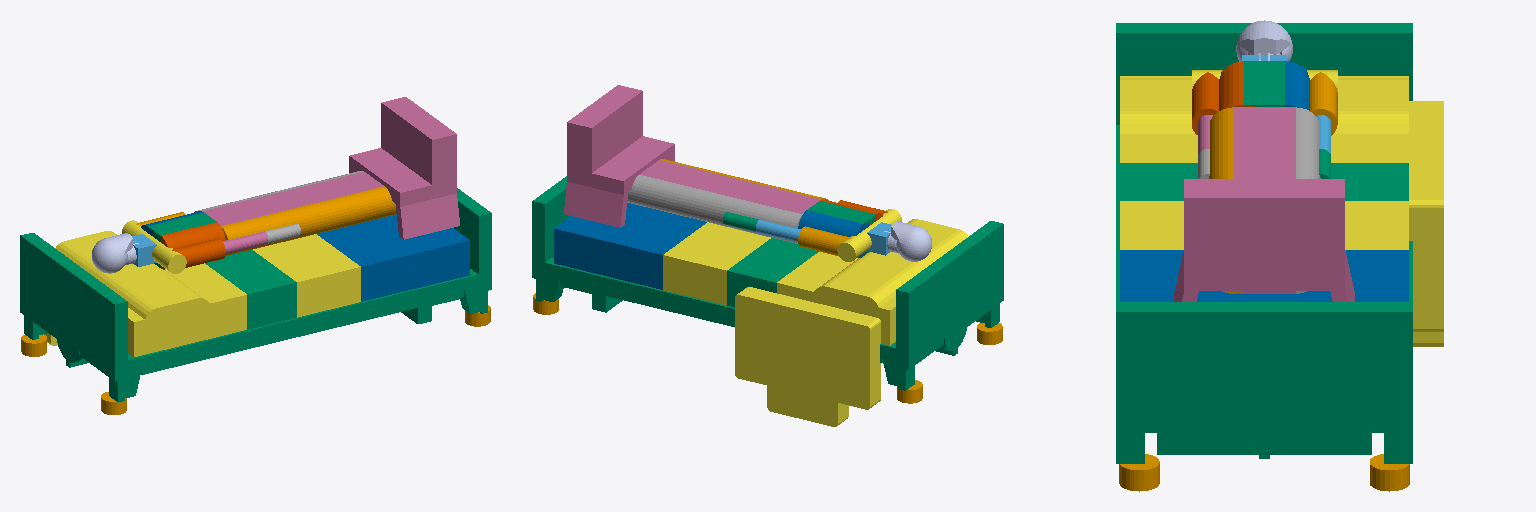
--- What the picture shows (computed from the rendered views, not written in the file) ---
The picture shows the robot from 3 angles, left to right: view 1: azimuth 30°, elevation 25°; view 2: azimuth 150°, elevation 25°; view 3: azimuth 270°, elevation 25°; orthographic projection.
Robot: bed_and_environment_cali_parameterized_tray — 43 links, 42 joints (17 revolute, 6 prismatic, 19 fixed); root link autobed/base_link; default pose: every joint at zero.
Links seen in each view (by area): view 1: autobed/bed_frame_link, autobed/head_rest_link, autobed/overbed_tray_link, autobed/leg_rest_lower, autobed/leg_rest_upper, autobed/legs_side_left_link, autobed/pelvis_link, autobed/base_link, autobed/head_link, autobed/torso_side_left_link, autobed/torso_clavicle_link, autobed/upper_arm_right_link (+3 smaller); view 2: autobed/head_rest_link, autobed/bed_frame_link, autobed/overbed_tray_link, autobed/leg_rest_lower, autobed/leg_rest_upper, autobed/legs_side_right_link, autobed/pelvis_link, autobed/base_link, autobed/head_link, autobed/torso_side_right_link, autobed/torso_clavicle_link, autobed/upper_arm_left_link (+3 smaller); view 3: autobed/bed_frame_link, autobed/head_rest_link, autobed/overbed_tray_link, autobed/leg_rest_lower, autobed/leg_rest_upper, autobed/pelvis_link, autobed/base_link, autobed/torso_link, autobed/head_link, autobed/legs_side_left_link, autobed/legs_side_right_link, autobed/upper_arm_left_link (+3 smaller).
Link boxes in pixels (x1,y1,x2,y2): autobed/bed_frame_link: (20,188,491,402); autobed/head_rest_link: (44,231,246,356); autobed/overbed_tray_link: (349,97,459,239); autobed/leg_rest_lower: (317,214,469,301); autobed/leg_rest_upper: (253,234,360,317); autobed/legs_side_left_link: (221,186,396,255); autobed/pelvis_link: (202,172,383,225); autobed/base_link: (21,305,490,414); autobed/head_link: (92,233,132,273); autobed/torso_side_left_link: (161,222,225,269); autobed/torso_clavicle_link: (122,220,186,273); autobed/upper_arm_right_link: (172,238,225,267); autobed/head_rest_link: (735,219,968,426); autobed/bed_frame_link: (532,176,1003,390); autobed/overbed_tray_link: (564,85,674,227); autobed/leg_rest_lower: (554,203,706,289); autobed/leg_rest_upper: (663,222,770,305); autobed/legs_side_right_link: (627,175,802,243); autobed/pelvis_link: (639,160,821,213); autobed/base_link: (533,293,1002,403); autobed/head_link: (891,221,931,261); autobed/torso_side_right_link: (798,210,868,257); autobed/torso_clavicle_link: (837,209,901,261); autobed/upper_arm_left_link: (798,226,850,255); autobed/bed_frame_link: (1116,23,1412,463); autobed/head_rest_link: (1120,76,1443,346); autobed/overbed_tray_link: (1174,179,1354,301); autobed/leg_rest_lower: (1120,250,1408,301); autobed/leg_rest_upper: (1120,201,1408,249); autobed/pelvis_link: (1233,107,1295,293); autobed/base_link: (1119,454,1409,491); autobed/torso_link: (1244,61,1284,106); autobed/head_link: (1236,20,1292,61); autobed/legs_side_left_link: (1209,107,1243,293); autobed/legs_side_right_link: (1296,107,1320,293); autobed/upper_arm_left_link: (1310,72,1337,135).
Size in the robot's own frame: 2.41 by 1.13 by 1.25 metres.
Meshes: 9 distinct files referenced, 8 mesh visuals loaded (8 binary STL); not drawn: 1 (reference not matched to a file when rendering).

The robot description file, URDF, robot "bed_and_environment_cali_parameterized_tray":
<?xml version="1.0" ?>
<!-- =================================================================================== -->
<!-- |    This document was autogenerated by xacro from ./urdf/bed_and_environment_cali_henry_tray/robots/bed_and_environment_cali_2_0m_tray.urdf.xacro | -->
<!-- |    EDITING THIS FILE BY HAND IS NOT RECOMMENDED                                 | -->
<!-- =================================================================================== -->
<robot name="bed_and_environment_cali_parameterized_tray" xmlns:xacro="http://www.ros.org/wiki/xacro">
  <!--<xacro:property name="torso_len" value="0.6" />-->
  <!--<xacro:property name="leg_len" value="1.1" />-->
  <!--<robot-->
  <!--name="bed_and_environment_cali_parameterized_tray">-->
  <link name="autobed/base_link">
    <inertial>
      <origin rpy="0 0 0" xyz="1.1357 5.02524375187963E-16 0.0837923121940762"/>
      <mass value="6.1860172808288"/>
      <inertia ixx="1.21978721906848" ixy="2.44249065417534E-15" ixz="-1.95644145492449E-15" iyy="8.04681346721547" iyz="-8.29396064187448E-16" izz="9.14286094259782"/>
    </inertial>
    <visual>
      <origin rpy="0 0 0" xyz="0 0 0"/>
      <geometry>
        <mesh filename="package://hrl_base_selection/urdf/bed_and_environment_cali_henry_tray/meshes/base_link.STL"/>
      </geometry>
    </visual>
    <collision>
      <origin rpy="0 0 0" xyz="0 0 0"/>
      <geometry>
        <mesh filename="package://hrl_base_selection/urdf/bed_and_environment_cali_henry_tray/meshes/base_link.STL"/>
      </geometry>
    </collision>
  </link>
  <link name="autobed/wall_link">
    <inertial>
      <origin rpy="0 0 0" xyz="1.87797370531369 0.344853002331874 0.50260600946241"/>
      <mass value="3357.24028579199"/>
      <inertia ixx="6116.11427029265" ixy="3215.70073716445" ixz="-7.36787327233699" iyy="7061.83554462804" iyz="404.207480292852" izz="12009.0931540893"/>
    </inertial>
    <visual>
      <origin rpy="0 0 0" xyz="0 0 0"/>
      <geometry>
        <mesh filename="package://hrl_base_selection/urdf/bed_and_environment_cali_henry_tray/meshes/wall_link.STL"/>
      </geometry>
    </visual>
    <collision>
      <origin rpy="0 0 0" xyz="0 0 0"/>
      <geometry>
        <mesh filename="package://hrl_base_selection/urdf/bed_and_environment_cali_henry_tray/meshes/wall_link.STL"/>
      </geometry>
    </collision>
  </link>
  <joint name="autobed/origin_wall_joint" type="fixed">
    <origin rpy="-6.12323399573677E-17 -2.86271466643222E-16 -0.0588984739444681" xyz="-0.121553494210093 -0.00360284373118887 0"/>
    <parent link="autobed/base_link"/>
    <child link="autobed/wall_link"/>
    <axis xyz="0 0 0"/>
  </joint>
  <!--<joint-->
  <!--name="autobed/test_length_joint"-->
  <!--type="fixed">-->
  <!--<origin-->
  <!--xyz="1.1565 0 0"-->
  <!--rpy="0 0 0" />-->
  <!--<parent-->
  <!--link="autobed/base_link" />-->
  <!--<child-->
  <!--link="autobed/test_length_link" />-->
  <!--<axis-->
  <!--xyz="0 0 0" />-->
  <!--</joint>-->
  <!--<link-->
  <!--name="autobed/test_length_link">-->
  <!--<visual>-->
  <!--<origin-->
  <!--xyz="0 0 0"-->
  <!--rpy="0 0 0" />-->
  <!--<geometry>-->
  <!--<box size="4.66 ${0.914*2} 0.1"/>-->
  <!--</geometry>-->
  <!--</visual>-->
  <!--<collision>-->
  <!--<origin-->
  <!--xyz="0 0 0"-->
  <!--rpy="0 0 0" />-->
  <!--<geometry>-->
  <!--<box size="4.66 ${0.914*2} 0.1"/>-->
  <!--</geometry>-->
  <!--</collision>-->
  <!--</link>-->
  <!--<joint-->
  <!--name="autobed/test_spot_joint"-->
  <!--type="fixed">-->
  <!--<origin-->
  <!--xyz="1.1565 0.4552 0"-->
  <!--rpy="0 0 0" />-->
  <!--<parent-->
  <!--link="autobed/base_link" />-->
  <!--<child-->
  <!--link="autobed/test_spot_link" />-->
  <!--<axis-->
  <!--xyz="0 0 0" />-->
  <!--</joint>-->
  <!--<link-->
  <!--name="autobed/test_spot_link">-->
  <!--<visual>-->
  <!--<origin-->
  <!--xyz="0 0 0"-->
  <!--rpy="0 0 0" />-->
  <!--<geometry>-->
  <!--<box size="0.1 0.1 0.1"/>-->
  <!--</geometry>-->
  <!--</visual>-->
  <!--<collision>-->
  <!--<origin-->
  <!--xyz="0 0 0"-->
  <!--rpy="0 0 0" />-->
  <!--<geometry>-->
  <!--<box size="0.1 0.1 0.1"/>-->
  <!--</geometry>-->
  <!--</collision>-->
  <!--</link>-->
  <link name="autobed/bed_frame_link">
    <inertial>
      <origin rpy="0 0 0" xyz="1.21628575112374 -0.00457131635492439 -0.0135493327987712"/>
      <mass value="438.573663325781"/>
      <inertia ixx="42.8905274768398" ixy="0.0492397267886641" ixz="-5.59060599846785" iyy="241.766114116497" iyz="0.273352447936363" izz="273.415411937571"/>
    </inertial>
    <visual>
      <origin rpy="0 0 0" xyz="0 0 0"/>
      <geometry>
        <mesh filename="package://hrl_base_selection/urdf/bed_and_environment_cali_henry_tray/meshes/bed_frame_link.STL"/>
      </geometry>
    </visual>
    <collision>
      <origin rpy="0 0 0" xyz="0 0 0"/>
      <geometry>
        <mesh filename="package://hrl_base_selection/urdf/bed_and_environment_cali_henry_tray/meshes/bed_frame_link.STL"/>
      </geometry>
    </collision>
  </link>
  <joint name="autobed/tele_legs_joint" type="prismatic">
    <origin rpy="0 0 0" xyz="-0.0400000000000005 0 0.320000000000001"/>
    <parent link="autobed/base_link"/>
    <child link="autobed/bed_frame_link"/>
    <axis xyz="0 0 1"/>
    <limit effort="0" lower="-1" upper="1" velocity="0"/>
  </joint>
  <link name="autobed/leg_rest_upper">
    <inertial>
      <origin rpy="0 0 0" xyz="0.200000000000001 0.105 5.39949211906603E-16"/>
      <mass value="83.5800000000001"/>
      <inertia ixx="7.20268062500001" ixy="6.22789394401658E-17" ixz="5.26123900305408E-16" iyy="8.00992412500002" iyz="-4.24421100017485E-15" izz="1.4215565"/>
    </inertial>
    <visual>
      <origin rpy="0 0 0" xyz="0 0 0"/>
      <geometry>
        <mesh filename="package://hrl_base_selection/urdf/bed_and_environment_cali_henry_tray/meshes/leg_rest_upper.STL"/>
      </geometry>
    </visual>
    <collision>
      <origin rpy="0 0 0" xyz="0 0 0"/>
      <geometry>
        <mesh filename="package://hrl_base_selection/urdf/bed_and_environment_cali_henry_tray/meshes/leg_rest_upper.STL"/>
      </geometry>
    </collision>
  </link>
  <joint name="autobed/leg_rest_upper_hinge" type="revolute">
    <origin rpy="1.5707963267949 -1.84377299293392E-16 7.65430446472183E-16" xyz="1.145 0 0"/>
    <parent link="autobed/bed_frame_link"/>
    <child link="autobed/leg_rest_upper"/>
    <axis xyz="0 0 1"/>
    <limit effort="0" lower="-2" upper="2" velocity="0"/>
  </joint>
  <link name="autobed/leg_rest_lower">
    <inertial>
      <origin rpy="0 0 0" xyz="0.34 0.105 -5.47791833032667E-17"/>
      <mass value="142.086"/>
      <inertia ixx="12.2445570625" ixy="-5.16774213504574E-17" ixz="-2.28125300458666E-16" iyy="17.1974382125" iyz="4.5484254092282E-16" izz="5.99721325"/>
    </inertial>
    <visual>
      <origin rpy="0 0 0" xyz="0 0 0"/>
      <geometry>
        <mesh filename="package://hrl_base_selection/urdf/bed_and_environment_cali_henry_tray/meshes/leg_rest_lower.STL"/>
      </geometry>
    </visual>
    <collision>
      <origin rpy="0 0 0" xyz="0 0 0"/>
      <geometry>
        <mesh filename="package://hrl_base_selection/urdf/bed_and_environment_cali_henry_tray/meshes/leg_rest_lower.STL"/>
      </geometry>
    </collision>
  </link>
  <joint name="autobed/leg_rest_lower_hinge" type="revolute">
    <origin rpy="8.46545056276682E-16 -2.4743657509036E-16 -1.8315782125782E-16" xyz="0.400000000000001 0 0"/>
    <parent link="autobed/leg_rest_upper"/>
    <child link="autobed/leg_rest_lower"/>
    <axis xyz="0 0 -1"/>
    <limit effort="0" lower="-2" upper="2" velocity="0"/>
  </joint>
  <joint name="autobed/leg_rest_lower_overbed_tray_y_joint" type="prismatic">
    <origin rpy="-1.5707963267949 -7.65430446472183E-16 -1.84377299293393E-16" xyz="1.1264 0.209999999999999 0.0"/>
    <parent link="autobed/leg_rest_upper"/>
    <child link="autobed/overbed_tray_y_link"/>
    <axis xyz="0 1 0"/>
    <limit effort="0" lower="-2" upper="2" velocity="0"/>
  </joint>
  <link name="autobed/overbed_tray_y_link">
  </link>
  <joint name="autobed/leg_rest_lower_overbed_tray_x_joint" type="prismatic">
    <origin rpy="0 0 0" xyz="0 0 0"/>
    <parent link="autobed/overbed_tray_y_link"/>
    <child link="autobed/overbed_tray_link"/>
    <axis xyz="1 0 0"/>
    <limit effort="0" lower="-2" upper="2" velocity="0"/>
  </joint>
  <link name="autobed/overbed_tray_link">
    <inertial>
      <origin rpy="0 0 0" xyz="-0.126831334555388 -2.39391839684799E-16 0.292487182922541"/>
      <mass value="45.8804418306016"/>
      <inertia ixx="2.25610644406934" ixy="5.89980014167489E-16" ixz="0.245785758241238" iyy="1.17395227790145" iyz="9.18641561642936E-16" izz="1.88004614377697"/>
    </inertial>
    <visual>
      <origin rpy="0 0 0" xyz="0 0 0"/>
      <geometry>
        <mesh filename="package://hrl_base_selection/urdf/bed_and_environment_cali_henry_tray/meshes/overbed_tray_link.STL"/>
      </geometry>
    </visual>
    <collision>
      <origin rpy="0 0 0" xyz="0 0 0"/>
      <geometry>
        <mesh filename="package://hrl_base_selection/urdf/bed_and_environment_cali_henry_tray/meshes/overbed_tray_link.STL"/>
      </geometry>
    </collision>
  </link>
  <joint name="autobed/tray_screen_bottom_left_joint" type="fixed">
    <origin rpy="0 0 0" xyz="-0.15408 0.27686 0.26419"/>
    <parent link="autobed/overbed_tray_link"/>
    <child link="autobed/screen_bottom_left_link"/>
  </joint>
  <link name="autobed/screen_bottom_left_link">
  </link>
  <joint name="autobed/tray_screen_bottom_right_joint" type="fixed">
    <origin rpy="0 0 0" xyz="-0.15408 -0.27686 0.26419"/>
    <parent link="autobed/overbed_tray_link"/>
    <child link="autobed/screen_bottom_right_link"/>
  </joint>
  <link name="autobed/screen_bottom_right_link">
  </link>
  <joint name="autobed/tray_screen_top_left_joint" type="fixed">
    <origin rpy="0 0 0" xyz="-0.15408 0.27686 0.53419"/>
    <parent link="autobed/overbed_tray_link"/>
    <child link="autobed/screen_top_left_link"/>
  </joint>
  <link name="autobed/screen_top_left_link">
  </link>
  <joint name="autobed/tray_screen_top_right_joint" type="fixed">
    <origin rpy="0 0 0" xyz="-0.15408 -0.27686 0.53419"/>
    <parent link="autobed/overbed_tray_link"/>
    <child link="autobed/screen_top_right_link"/>
  </joint>
  <link name="autobed/screen_top_right_link">
  </link>
  <link name="autobed/head_rest_link">
    <inertial>
      <origin rpy="0 0 0" xyz="0.329573377413269 -0.160120828020686 0.144918621186554"/>
      <mass value="224.783329311116"/>
      <inertia ixx="32.8876282309991" ixy="1.69548410687658" ixz="-3.19639748968515" iyy="37.6526299034377" iyz="-6.40258778692133" izz="16.0712822442492"/>
    </inertial>
    <visual>
      <origin rpy="0 0 0" xyz="0 0 0"/>
      <geometry>
        <mesh filename="package://hrl_base_selection/urdf/bed_and_environment_cali_henry_tray/meshes/head_rest_link.STL"/>
      </geometry>
    </visual>
    <collision>
      <origin rpy="0 0 0" xyz="0 0 0"/>
      <geometry>
        <mesh filename="package://hrl_base_selection/urdf/bed_and_environment_cali_henry_tray/meshes/head_rest_link.STL"/>
      </geometry>
    </collision>
  </link>
  <joint name="autobed/head_rest_hinge" type="revolute">
    <origin rpy="1.5708 0 -3.1416" xyz="0.835 0 0.21"/>
    <parent link="autobed/bed_frame_link"/>
    <child link="autobed/head_rest_link"/>
    <axis xyz="0 0 1"/>
    <limit effort="0" lower="-2" upper="2" velocity="0"/>
  </joint>
  <link name="autobed/neck_rotated_to_worldframe_link">
  </link>
  <joint name="autobed/headrest_bed_to_worldframe_joint" type="revolute">
    <origin rpy="0. 0. 0." xyz="0.41 0.15 0"/>
    <!--<origin-->
    <!--xyz="0.40949 0.05 0"-->
    <!--rpy="0. 0. 0." />-->
    <parent link="autobed/head_rest_link"/>
    <child link="autobed/neck_rotated_to_worldframe_link"/>
    <axis xyz="0 0 1"/>
    <limit effort="0" lower="-2" upper="2" velocity="0"/>
  </joint>
  <link name="autobed/neck_updown_worldframe_translation_link">
  </link>
  <joint name="autobed/bed_neck_worldframe_updown_joint" type="prismatic">
    <origin rpy="0.0 0.0 0.0" xyz="0.0 0.0 0"/>
    <parent link="autobed/neck_rotated_to_worldframe_link"/>
    <child link="autobed/neck_updown_worldframe_translation_link"/>
    <axis xyz="-1 0 0"/>
    <limit effort="0" lower="-2" upper="2" velocity="0"/>
  </joint>
  <link name="autobed/neck_rotated_to_bedframe_link">
  </link>
  <joint name="autobed/bed_neck_to_bedframe_joint" type="revolute">
    <origin rpy="0. 0. 0." xyz="0.0 0.0 0"/>
    <parent link="autobed/neck_updown_worldframe_translation_link"/>
    <child link="autobed/neck_rotated_to_bedframe_link"/>
    <axis xyz="0 0 1"/>
    <limit effort="0" lower="-2" upper="2" velocity="0"/>
  </joint>
  <link name="autobed/neck_updown_bedframe_translation_link">
  </link>
  <joint name="autobed/bed_neck_base_updown_bedframe_joint" type="prismatic">
    <origin rpy="0. 0. 0." xyz="0.0 0.0 0"/>
    <parent link="autobed/neck_rotated_to_bedframe_link"/>
    <child link="autobed/neck_updown_bedframe_translation_link"/>
    <axis xyz="-1 0 0"/>
    <limit effort="0" lower="-2" upper="2" velocity="0"/>
  </joint>
  <link name="autobed/neck_base_link">
  </link>
  <joint name="autobed/bed_neck_base_leftright_joint" type="prismatic">
    <origin rpy="0 3.14159 0" xyz="0 0 0"/>
    <parent link="autobed/neck_updown_bedframe_translation_link"/>
    <child link="autobed/neck_base_link"/>
    <axis xyz="0 0 -1"/>
    <limit effort="0" lower="-2" upper="2" velocity="0"/>
  </joint>
  <link name="autobed/neck_twist_link">
  </link>
  <joint name="autobed/neck_twist_joint" type="revolute">
    <origin rpy="0. 0. 0." xyz="0.0 0.0 0"/>
    <parent link="autobed/neck_base_link"/>
    <child link="autobed/neck_twist_link"/>
    <axis xyz="1 0 0"/>
    <limit effort="0" lower="-2" upper="2" velocity="0"/>
  </joint>
  <link name="autobed/neck_tilt_link">
  </link>
  <joint name="autobed/neck_tilt_joint" type="revolute">
    <origin rpy="0. 0. 0." xyz="0.0 0.0 0"/>
    <parent link="autobed/neck_twist_link"/>
    <child link="autobed/neck_tilt_link"/>
    <axis xyz="0 0 -1"/>
    <limit effort="0" lower="-2" upper="2" velocity="0"/>
  </joint>
  <link name="autobed/neck_link">
    <visual>
      <origin rpy="0 0 0" xyz="0 0 0"/>
      <geometry>
        <mesh filename="package://hrl_base_selection/urdf/bed_and_environment_cali_henry_tray/meshes/neck_link.STL"/>
      </geometry>
      <material name="">
        <color rgba="0.792156862745098 0.819607843137255 0.933333333333333 1"/>
      </material>
    </visual>
    <collision>
      <origin rpy="0 0 0" xyz="0 0 0"/>
      <geometry>
        <mesh filename="package://hrl_base_selection/urdf/bed_and_environment_cali_henry_tray/meshes/neck_link.STL"/>
      </geometry>
    </collision>
  </link>
  <joint name="autobed/neck_to_neck_top_joint" type="fixed">
    <origin rpy="0 0 0" xyz="-0.07239 0 0"/>
    <parent link="autobed/neck_tilt_link"/>
    <child link="autobed/neck_link"/>
  </joint>
  <link name="autobed/neck_top_rotated_link">
  </link>
  <joint name="autobed/neck_rotation_fixed_joint" type="fixed">
    <origin rpy="-1.570796 0 1.570796" xyz="0 0 0"/>
    <parent link="autobed/neck_link"/>
    <child link="autobed/neck_top_rotated_link"/>
    <axis xyz="0 0 1"/>
    <limit effort="0" lower="-2" upper="2" velocity="0"/>
  </joint>
  <link name="autobed/head_roty_link">
  </link>
  <joint name="autobed/neck_head_roty_joint" type="revolute">
    <origin rpy="0 0 0" xyz="0.0154 0 0.07779"/>
    <parent link="autobed/neck_top_rotated_link"/>
    <child link="autobed/head_roty_link"/>
    <axis xyz="0 1 0"/>
    <limit effort="0" lower="-2" upper="2" velocity="0"/>
  </joint>
  <link name="autobed/head_rotz_link">
  </link>
  <joint name="autobed/neck_head_rotz_joint" type="revolute">
    <origin rpy="0 0 0" xyz="0 0 0"/>
    <parent link="autobed/head_roty_link"/>
    <child link="autobed/head_rotz_link"/>
    <axis xyz="0 0 1"/>
    <limit effort="0" lower="-2" upper="2" velocity="0"/>
  </joint>
  <link name="autobed/head_link">
    <visual>
      <origin rpy="0 0 0" xyz="0 0 0"/>
      <geometry>
        <mesh filename="package://hrl_base_selection/urdf/bed_and_environment_cali_henry_tray/meshes/head_link.STL"/>
      </geometry>
      <material name="">
        <color rgba="0.792156862745098 0.819607843137255 0.933333333333333 1"/>
      </material>
    </visual>
    <collision>
      <origin rpy="0 0 0" xyz="0 0 0"/>
      <geometry>
        <mesh filename="package://hrl_base_selection/urdf/bed_and_environment_cali_henry_tray/meshes/head_link.STL"/>
      </geometry>
    </collision>
  </link>
  <joint name="autobed/neck_head_rotx_joint" type="revolute">
    <origin rpy="0 0 0" xyz="0 0 0"/>
    <parent link="autobed/head_rotz_link"/>
    <child link="autobed/head_link"/>
    <axis xyz="1 0 0"/>
    <limit effort="0" lower="-2" upper="2" velocity="0"/>
  </joint>
  <joint name="autobed/head_eyes_joint" type="fixed">
    <origin rpy="0 0 0" xyz="0.09779 0 0.03"/>
    <parent link="autobed/head_link"/>
    <child link="autobed/eyes_link"/>
  </joint>
  <link name="autobed/eyes_link">
  </link>
  <joint name="autobed/neck_missing_neck_joint" type="fixed">
    <origin rpy="0 0 0" xyz="0.05761 0 0"/>
    <parent link="autobed/neck_base_link"/>
    <child link="autobed/missing_neck_link"/>
  </joint>
  <link name="autobed/missing_neck_link">
    <visual>
      <origin rpy="0 0 0" xyz="-0.028805 0.0 0"/>
      <geometry>
        <!--<box size="0.5 0.5 .2"/>-->
        <!--<box size="${0.55*body_len/comp_len*2} 0.35 ${0.5*body_len/comp_len*2} "/>-->
        <box size="0.11522 0.11 0.155 "/>
      </geometry>
    </visual>
    <collision>
      <origin rpy="0 0 0" xyz="-0.028805 0.0 0"/>
      <geometry>
        <!--<box size="0.5 0.5 .2"/>-->
        <!--<box size="${0.6*body_len/comp_len*2} 0.35 ${0.5*body_len/comp_len*2}"/>-->
        <box size="0.11522 0.11 0.155 "/>
      </geometry>
    </collision>
  </link>
  <joint name="autobed/neck_torso_box_joint" type="fixed">
    <origin rpy="0 0 0" xyz="0.0573789173789 0 0"/>
    <parent link="autobed/missing_neck_link"/>
    <child link="autobed/torso_link"/>
  </joint>
  <link name="autobed/torso_link">
    <visual>
      <origin rpy="0 0 0" xyz="0.176310541311 0.0 0"/>
      <geometry>
        <!--<box size="0.5 0.5 .2"/>-->
        <!--<box size="${0.55*body_len/comp_len*2} 0.35 ${0.5*body_len/comp_len*2} "/>-->
        <box size="0.352621082621 0.194871794872 0.140740740741 "/>
      </geometry>
    </visual>
    <collision>
      <origin rpy="0 0 0" xyz="0.176310541311 0.0 0"/>
      <geometry>
        <!--<box size="0.5 0.5 .2"/>-->
        <!--<box size="${0.6*body_len/comp_len*2} 0.35 ${0.5*body_len/comp_len*2}"/>-->
        <box size="0.352621082621 0.194871794872 0.140740740741 "/>
      </geometry>
    </collision>
  </link>
  <joint name="autobed/neck_torso_clavicle_joint" type="fixed">
    <origin rpy="0 0 0" xyz="0 0 0"/>
    <parent link="autobed/torso_link"/>
    <child link="autobed/torso_clavicle_link"/>
  </joint>
  <link name="autobed/torso_clavicle_link">
    <visual>
      <origin rpy="0 0 0" xyz="0 0.0 0"/>
      <geometry>
        <!--<box size="0.5 0.5 .2"/>-->
        <!--<box size="${0.55*body_len/comp_len*2} 0.35 ${0.5*body_len/comp_len*2} "/>-->
        <cylinder length="0.503418803419" radius="0.0573789173789"/>
      </geometry>
    </visual>
    <collision>
      <origin rpy="0 0 0" xyz="0 0.0 0"/>
      <geometry>
        <!--<box size="0.5 0.5 .2"/>-->
        <!--<box size="${0.6*body_len/comp_len*2} 0.35 ${0.5*body_len/comp_len*2}"/>-->
        <cylinder length="0.503418803419" radius="0.0573789173789"/>
      </geometry>
    </collision>
  </link>
  <joint name="autobed/torso_side_right_joint" type="fixed">
    <origin rpy="0 1.5708 0" xyz="0 0 0"/>
    <parent link="autobed/torso_link"/>
    <child link="autobed/torso_side_right_link"/>
  </joint>
  <link name="autobed/torso_side_right_link">
    <visual>
      <origin rpy="0 0 0" xyz="0.0703703703705 0. 0.176310541311"/>
      <geometry>
        <!--<box size="0.5 0.5 .2"/>-->
        <!--<box size="${0.55*body_len/comp_len*2} 0.35 ${0.5*body_len/comp_len*2} "/>-->
        <cylinder length="0.352621082621" radius="0.097435897436"/>
      </geometry>
    </visual>
    <collision>
      <origin rpy="0 0 0" xyz="0.0703703703705 0. 0.176310541311"/>
      <geometry>
        <!--<box size="0.5 0.5 .2"/>-->
        <!--<box size="${0.6*body_len/comp_len*2} 0.35 ${0.5*body_len/comp_len*2}"/>-->
        <cylinder length="0.352621082621" radius="0.097435897436"/>
      </geometry>
    </collision>
  </link>
  <joint name="autobed/torso_side_left_joint" type="fixed">
    <origin rpy="0 1.5708 0" xyz="0 0 0"/>
    <parent link="autobed/torso_link"/>
    <child link="autobed/torso_side_left_link"/>
  </joint>
  <link name="autobed/torso_side_left_link">
    <visual>
      <origin rpy="0 0 0" xyz="-0.0703703703705 0. 0.176310541311"/>
      <geometry>
        <!--<box size="0.5 0.5 .2"/>-->
        <!--<box size="${0.55*body_len/comp_len*2} 0.35 ${0.5*body_len/comp_len*2} "/>-->
        <cylinder length="0.352621082621" radius="0.097435897436"/>
      </geometry>
    </visual>
    <collision>
      <origin rpy="0 0 0" xyz="0.0703703703705 0. 0.176310541311"/>
      <geometry>
        <!--<box size="0.5 0.5 .2"/>-->
        <!--<box size="${0.6*body_len/comp_len*2} 0.35 ${0.5*body_len/comp_len*2}"/>-->
        <cylinder length="0.352621082621" radius="0.097435897436"/>
      </geometry>
    </collision>
  </link>
  <joint name="autobed/torso_pelvis_joint" type="revolute">
    <origin rpy="0 0 0" xyz="0.352621082621 0.0 0"/>
    <parent link="autobed/torso_link"/>
    <child link="autobed/pelvis_link"/>
    <axis xyz="0 0 1"/>
    <limit effort="0" lower="-3" upper="3" velocity="0"/>
  </joint>
  <link name="autobed/pelvis_link">
    <visual>
      <origin rpy="0 0 0" xyz="0.574487179487 0 0"/>
      <geometry>
        <!--<box size="0.5 0.5 .2"/>-->
        <!--<box size="${1.2*body_len/comp_len*2} 0.35 ${0.5*body_len/comp_len*2}"/>-->
        <box size="1.14897435897 0.173219373219 0.217606837607 "/>
      </geometry>
    </visual>
    <collision>
      <origin rpy="0 0 0" xyz="0.574487179487 0 0"/>
      <geometry>
        <!--<box size="0.5 0.5 .2"/>-->
        <!--<box size="${1.2*body_len/comp_len*2} 0.35 ${0.5*body_len/comp_len*2}"/>-->
        <box size="1.14897435897 0.173219373219 0.217606837607 "/>
      </geometry>
    </collision>
  </link>
  <joint name="autobed/legs_side_right_joint" type="fixed">
    <origin rpy="0 1.5708 0" xyz="0 0 0"/>
    <parent link="autobed/pelvis_link"/>
    <child link="autobed/legs_side_right_link"/>
  </joint>
  <link name="autobed/legs_side_right_link">
    <visual>
      <origin rpy="0 0 0" xyz="0.108803418804 0. 0.574487179487"/>
      <geometry>
        <!--<box size="0.5 0.5 .2"/>-->
        <!--<box size="${0.55*body_len/comp_len*2} 0.35 ${0.5*body_len/comp_len*2} "/>-->
        <cylinder length="1.14897435897" radius="0.0866096866095"/>
      </geometry>
    </visual>
    <collision>
      <origin rpy="0 0 0" xyz="0.108803418804 0. 0.574487179487"/>
      <geometry>
        <!--<box size="0.5 0.5 .2"/>-->
        <!--<box size="${0.6*body_len/comp_len*2} 0.35 ${0.5*body_len/comp_len*2}"/>-->
        <cylinder length="0.352621082621" radius="0.097435897436"/>
      </geometry>
    </collision>
  </link>
  <joint name="autobed/legs_side_left_joint" type="fixed">
    <origin rpy="0 1.5708 0" xyz="0 0 0"/>
    <parent link="autobed/pelvis_link"/>
    <child link="autobed/legs_side_left_link"/>
  </joint>
  <link name="autobed/legs_side_left_link">
    <visual>
      <origin rpy="0 0 0" xyz="-0.108803418804 0. 0.574487179487"/>
      <geometry>
        <!--<box size="0.5 0.5 .2"/>-->
        <!--<box size="${0.55*body_len/comp_len*2} 0.35 ${0.5*body_len/comp_len*2} "/>-->
        <cylinder length="1.14897435897" radius="0.0866096866095"/>
      </geometry>
    </visual>
    <collision>
      <origin rpy="0 0 0" xyz="-0.108803418804 0. 0.574487179487"/>
      <geometry>
        <!--<box size="0.5 0.5 .2"/>-->
        <!--<box size="${0.6*body_len/comp_len*2} 0.35 ${0.5*body_len/comp_len*2}"/>-->
        <cylinder length="0.352621082621" radius="0.097435897436"/>
      </geometry>
    </collision>
  </link>
  <joint name="autobed/pelvis_knee_left_joint" type="fixed">
    <origin rpy="-1.5708 0 1.5708" xyz="0.604415954416 0 -0.0963532763535"/>
    <parent link="autobed/pelvis_link"/>
    <child link="autobed/knee_left_link"/>
  </joint>
  <link name="autobed/knee_left_link">
  </link>
  <joint name="autobed/knee_foot_left_joint" type="fixed">
    <origin rpy="0 0 0" xyz="0 0 -0.456866096866"/>
    <parent link="autobed/knee_left_link"/>
    <child link="autobed/foot_left_link"/>
  </joint>
  <link name="autobed/foot_left_link">
  </link>
  <joint name="autobed/pelvis_knee_right_joint" type="fixed">
    <origin rpy="-1.5708 0 1.5708" xyz="0.604415954416 0 0.0963532763535"/>
    <parent link="autobed/pelvis_link"/>
    <child link="autobed/knee_right_link"/>
  </joint>
  <link name="autobed/knee_right_link">
  </link>
  <joint name="autobed/knee_foot_right_joint" type="fixed">
    <origin rpy="0 0 0" xyz="0 0 -0.456866096866"/>
    <parent link="autobed/knee_right_link"/>
    <child link="autobed/foot_right_link"/>
  </joint>
  <link name="autobed/foot_right_link">
  </link>
  <joint name="autobed/torso_upper_arm_right_joint" type="revolute">
    <origin rpy="-1.5708 0 1.5708" xyz="0 0 0.194330484331"/>
    <parent link="autobed/torso_link"/>
    <child link="autobed/upper_arm_right_link"/>
    <axis xyz="0 1 0"/>
    <limit effort="0" lower="-3" upper="3" velocity="0"/>
  </joint>
  <link name="autobed/upper_arm_right_link">
    <visual>
      <origin rpy="0 0 0" xyz="0 0. -0.151025641026"/>
      <geometry>
        <!--<box size="0.5 0.5 .2"/>-->
        <!--<box size="${0.55*body_len/comp_len*2} 0.35 ${0.5*body_len/comp_len*2} "/>-->
        <cylinder length="0.302051282051" radius="0.0573789173789"/>
      </geometry>
    </visual>
    <collision>
      <origin rpy="0 0 0" xyz="0 0. -0.151025641026"/>
      <geometry>
        <!--<box size="0.5 0.5 .2"/>-->
        <!--<box size="${0.6*body_len/comp_len*2} 0.35 ${0.5*body_len/comp_len*2}"/>-->
        <cylinder length="0.302051282051" radius="0.0573789173789"/>
      </geometry>
    </collision>
  </link>
  <joint name="autobed/upper_arm_fore_arm_right_joint" type="revolute">
    <origin rpy="0 0 0" xyz="0 0 -0.302051282051"/>
    <parent link="autobed/upper_arm_right_link"/>
    <child link="autobed/fore_arm_right_link"/>
    <axis xyz="0 1 0"/>
    <limit effort="0" lower="-3" upper="3" velocity="0"/>
  </joint>
  <link name="autobed/fore_arm_right_link">
    <visual>
      <origin rpy="0 0 0" xyz="0 0. -0.139116809117"/>
      <geometry>
        <!--<box size="0.5 0.5 .2"/>-->
        <!--<box size="${0.55*body_len/comp_len*2} 0.35 ${0.5*body_len/comp_len*2} "/>-->
        <cylinder length="0.278233618234" radius="0.0357264957265"/>
      </geometry>
    </visual>
    <collision>
      <origin rpy="0 0 0" xyz="0 0. -0.139116809117"/>
      <geometry>
        <!--<box size="0.5 0.5 .2"/>-->
        <!--<box size="${0.6*body_len/comp_len*2} 0.35 ${0.5*body_len/comp_len*2}"/>-->
        <cylinder length="0.278233618234" radius="0.0357264957265"/>
      </geometry>
    </collision>
  </link>
  <joint name="autobed/fore_arm_hand_right_joint" type="revolute">
    <origin rpy="0 0 0" xyz="0 0 -0.278233618234"/>
    <parent link="autobed/fore_arm_right_link"/>
    <child link="autobed/hand_right_link"/>
    <axis xyz="0 1 0"/>
    <limit effort="0" lower="-3" upper="3" velocity="0"/>
  </joint>
  <link name="autobed/hand_right_link">
    <visual>
      <origin rpy="0 0 0" xyz="0 0. -0.102849002849"/>
      <geometry>
        <!--<box size="0.5 0.5 .2"/>-->
        <!--<box size="${0.55*body_len/comp_len*2} 0.35 ${0.5*body_len/comp_len*2} "/>-->
        <cylinder length="0.205698005698" radius="0.0357264957265"/>
      </geometry>
    </visual>
    <collision>
      <origin rpy="0 0 0" xyz="0 0. -0.102849002849"/>
      <geometry>
        <!--<box size="0.5 0.5 .2"/>-->
        <!--<box size="${0.6*body_len/comp_len*2} 0.35 ${0.5*body_len/comp_len*2}"/>-->
        <cylinder length="0.205698005698" radius="0.0357264957265"/>
      </geometry>
    </collision>
  </link>
  <joint name="autobed/torso_upper_arm_left_joint" type="revolute">
    <origin rpy="-1.5708 0 1.5708" xyz="0 0 -0.194330484331"/>
    <parent link="autobed/torso_link"/>
    <child link="autobed/upper_arm_left_link"/>
    <axis xyz="0 1 0"/>
    <limit effort="0" lower="-3" upper="3" velocity="0"/>
  </joint>
  <link name="autobed/upper_arm_left_link">
    <visual>
      <origin rpy="0 0 0" xyz="0 0. -0.151025641026"/>
      <geometry>
        <!--<box size="0.5 0.5 .2"/>-->
        <!--<box size="${0.55*body_len/comp_len*2} 0.35 ${0.5*body_len/comp_len*2} "/>-->
        <cylinder length="0.302051282051" radius="0.0573789173789"/>
      </geometry>
    </visual>
    <collision>
      <origin rpy="0 0 0" xyz="0 0. -0.151025641026"/>
      <geometry>
        <!--<box size="0.5 0.5 .2"/>-->
        <!--<box size="${0.6*body_len/comp_len*2} 0.35 ${0.5*body_len/comp_len*2}"/>-->
        <cylinder length="0.302051282051" radius="0.0573789173789"/>
      </geometry>
    </collision>
  </link>
  <joint name="autobed/upper_arm_fore_arm_left_joint" type="revolute">
    <origin rpy="0 0 0" xyz="0 0 -0.302051282051"/>
    <parent link="autobed/upper_arm_left_link"/>
    <child link="autobed/fore_arm_left_link"/>
    <axis xyz="0 1 0"/>
    <limit effort="0" lower="-3" upper="3" velocity="0"/>
  </joint>
  <link name="autobed/fore_arm_left_link">
    <visual>
      <origin rpy="0 0 0" xyz="0 0. -0.139116809117"/>
      <geometry>
        <!--<box size="0.5 0.5 .2"/>-->
        <!--<box size="${0.55*body_len/comp_len*2} 0.35 ${0.5*body_len/comp_len*2} "/>-->
        <cylinder length="0.278233618234" radius="0.0357264957265"/>
      </geometry>
    </visual>
    <collision>
      <origin rpy="0 0 0" xyz="0 0. -0.139116809117"/>
      <geometry>
        <!--<box size="0.5 0.5 .2"/>-->
        <!--<box size="${0.6*body_len/comp_len*2} 0.35 ${0.5*body_len/comp_len*2}"/>-->
        <cylinder length="0.278233618234" radius="0.0357264957265"/>
      </geometry>
    </collision>
  </link>
  <joint name="autobed/fore_arm_hand_left_joint" type="revolute">
    <origin rpy="0 0 0" xyz="0 0 -0.278233618234"/>
    <parent link="autobed/fore_arm_left_link"/>
    <child link="autobed/hand_left_link"/>
    <axis xyz="0 1 0"/>
    <limit effort="0" lower="-3" upper="3" velocity="0"/>
  </joint>
  <link name="autobed/hand_left_link">
    <visual>
      <origin rpy="0 0 0" xyz="0 0. -0.102849002849"/>
      <geometry>
        <!--<box size="0.5 0.5 .2"/>-->
        <!--<box size="${0.55*body_len/comp_len*2} 0.35 ${0.5*body_len/comp_len*2} "/>-->
        <cylinder length="0.205698005698" radius="0.0357264957265"/>
      </geometry>
    </visual>
    <collision>
      <origin rpy="0 0 0" xyz="0 0. -0.102849002849"/>
      <geometry>
        <!--<box size="0.5 0.5 .2"/>-->
        <!--<box size="${0.6*body_len/comp_len*2} 0.35 ${0.5*body_len/comp_len*2}"/>-->
        <cylinder length="0.205698005698" radius="0.0357264957265"/>
      </geometry>
    </collision>
  </link>
  <!--<link-->
  <!--name="autobed/upper_body_link">-->
  <!--<visual>-->
  <!--<origin-->
  <!--xyz="0 0 0"-->
  <!--rpy="0 0 0" />-->
  <!--<geometry>-->
  <!--<mesh-->
  <!--filename="package://hrl_base_selection/urdf/bed_and_environment_cali_henry_tray/meshes/upper_body_link.STL" />-->
  <!--</geometry>-->
  <!--<material-->
  <!--name="">-->
  <!--<color-->
  <!--rgba="0.792156862745098 0.819607843137255 0.933333333333333 1" />-->
  <!--</material>-->
  <!--</visual>-->
  <!--<collision>-->
  <!--<origin-->
  <!--xyz="0 0 0"-->
  <!--rpy="0 0 0" />-->
  <!--<geometry>-->
  <!--<mesh-->
  <!--filename="package://hrl_base_selection/urdf/bed_and_environment_cali_henry_tray/meshes/upper_body_link.STL" />-->
  <!--</geometry>-->
  <!--</collision>-->
  <!--</link>-->
  <!--<joint-->
  <!--name="autobed/neck_body_joint"-->
  <!--type="revolute">-->
  <!--<origin-->
  <!--xyz="0.00 0 0"-->
  <!--rpy="0 0 0" />-->
  <!--<parent-->
  <!--link="autobed/neck_base_link" />-->
  <!--<child-->
  <!--link="autobed/upper_body_link" />-->
  <!--<axis-->
  <!--xyz="0 0 -1" />-->
  <!--<limit-->
  <!--lower="-2"-->
  <!--upper="2"-->
  <!--effort="0"-->
  <!--velocity="0" />-->
  <!--</joint>-->
  <!--<link-->
  <!--name="autobed/mid_body_link">-->
  <!--<visual>-->
  <!--<origin-->
  <!--xyz="0 0 0"-->
  <!--rpy="0 0 0" />-->
  <!--<geometry>-->
  <!--<mesh-->
  <!--filename="package://hrl_base_selection/urdf/bed_and_environment_cali_henry_tray/meshes/mid_body_link.STL" />-->
  <!--</geometry>-->
  <!--<material-->
  <!--name="">-->
  <!--<color-->
  <!--rgba="0.792156862745098 0.819607843137255 0.933333333333333 1" />-->
  <!--</material>-->
  <!--</visual>-->
  <!--<collision>-->
  <!--<origin-->
  <!--xyz="0 0 0"-->
  <!--rpy="0 0 0" />-->
  <!--<geometry>-->
  <!--<mesh-->
  <!--filename="package://hrl_base_selection/urdf/bed_and_environment_cali_henry_tray/meshes/mid_body_link.STL" />-->
  <!--</geometry>-->
  <!--</collision>-->
  <!--</link>-->
  <!--<joint-->
  <!--name="autobed/upper_mid_body_joint"-->
  <!--type="revolute">-->
  <!--<origin-->
  <!--xyz="0.35052 0 0"-->
  <!--rpy="0 0 0" />-->
  <!--<parent-->
  <!--link="autobed/upper_body_link" />-->
  <!--<child-->
  <!--link="autobed/mid_body_link" />-->
  <!--<axis-->
  <!--xyz="0 0 1" />-->
  <!--<limit-->
  <!--lower="-2"-->
  <!--upper="2"-->
  <!--effort="0"-->
  <!--velocity="0" />-->
  <!--</joint>-->
  <!--<link-->
  <!--name="autobed/lower_body_link">-->
  <!--<visual>-->
  <!--<origin-->
  <!--xyz="0 0 0"-->
  <!--rpy="0 0 0" />-->
  <!--<geometry>-->
  <!--<mesh-->
  <!--filename="package://hrl_base_selection/urdf/bed_and_environment_cali_henry_tray/meshes/lower_body_link.STL" />-->
  <!--</geometry>-->
  <!--<material-->
  <!--name="">-->
  <!--<color-->
  <!--rgba="0.792156862745098 0.819607843137255 0.933333333333333 1" />-->
  <!--</material>-->
  <!--</visual>-->
  <!--<collision>-->
  <!--<origin-->
  <!--xyz="0 0 0"-->
  <!--rpy="0 0 0" />-->
  <!--<geometry>-->
  <!--<mesh-->
  <!--filename="package://hrl_base_selection/urdf/bed_and_environment_cali_henry_tray/meshes/lower_body_link.STL" />-->
  <!--</geometry>-->
  <!--</collision>-->
  <!--</link>-->
  <!--<joint-->
  <!--name="autobed/mid_lower_body_joint"-->
  <!--type="revolute">-->
  <!--<origin-->
  <!--xyz="0.15113 0 0"-->
  <!--rpy="0 0 0" />-->
  <!--<parent-->
  <!--link="autobed/mid_body_link" />-->
  <!--<child-->
  <!--link="autobed/lower_body_link" />-->
  <!--<axis-->
  <!--xyz="0 0 1" />-->
  <!--<limit-->
  <!--lower="-2"-->
  <!--upper="2"-->
  <!--effort="0"-->
  <!--velocity="0" />-->
  <!--</joint>-->
  <!--<link-->
  <!--name="autobed/quad_left_link">-->
  <!--<visual>-->
  <!--<origin-->
  <!--xyz="0 0 0"-->
  <!--rpy="0 0 0" />-->
  <!--<geometry>-->
  <!--<mesh-->
  <!--filename="package://hrl_base_selection/urdf/bed_and_environment_cali_henry_tray/meshes/quad_left_link.STL" />-->
  <!--</geometry>-->
  <!--<material-->
  <!--name="">-->
  <!--<color-->
  <!--rgba="0.792156862745098 0.819607843137255 0.933333333333333 1" />-->
  <!--</material>-->
  <!--</visual>-->
  <!--<collision>-->
  <!--<origin-->
  <!--xyz="0 0 0"-->
  <!--rpy="0 0 0" />-->
  <!--<geometry>-->
  <!--<mesh-->
  <!--filename="package://hrl_base_selection/urdf/bed_and_environment_cali_henry_tray/meshes/quad_left_link.STL" />-->
  <!--</geometry>-->
  <!--</collision>-->
  <!--</link>-->
  <!--<joint-->
  <!--name="autobed/body_quad_left_joint"-->
  <!--type="revolute">-->
  <!--<origin-->
  <!--xyz="0.05207 0 -0.08636"-->
  <!--rpy="0 0 -.25" />-->
  <!--<parent-->
  <!--link="autobed/lower_body_link" />-->
  <!--<child-->
  <!--link="autobed/quad_left_link" />-->
  <!--<axis-->
  <!--xyz="0 0 1" />-->
  <!--<limit-->
  <!--lower="-3."-->
  <!--upper="3."-->
  <!--effort="0"-->
  <!--velocity="0" />-->
  <!--</joint>-->
  <!--<link-->
  <!--name="autobed/calf_left_link">-->
  <!--<visual>-->
  <!--<origin-->
  <!--xyz="0 0 0"-->
  <!--rpy="0 0 0" />-->
  <!--<geometry>-->
  <!--<mesh-->
  <!--filename="package://hrl_base_selection/urdf/bed_and_environment_cali_henry_tray/meshes/calf_left_link.STL" />-->
  <!--</geometry>-->
  <!--<material-->
  <!--name="">-->
  <!--<color-->
  <!--rgba="0.792156862745098 0.819607843137255 0.933333333333333 1" />-->
  <!--</material>-->
  <!--</visual>-->
  <!--<collision>-->
  <!--<origin-->
  <!--xyz="0 0 0"-->
  <!--rpy="0 0 0" />-->
  <!--<geometry>-->
  <!--<mesh-->
  <!--filename="package://hrl_base_selection/urdf/bed_and_environment_cali_henry_tray/meshes/calf_left_link.STL" />-->
  <!--</geometry>-->
  <!--</collision>-->
  <!--</link>-->
  <!--<joint-->
  <!--name="autobed/quad_calf_left_joint"-->
  <!--type="revolute">-->
  <!--<origin-->
  <!--xyz="0.41218 0.11044 0"-->
  <!--rpy="3.14159 0 3.43" />-->
  <!--<parent-->
  <!--link="autobed/quad_left_link" />-->
  <!--<child-->
  <!--link="autobed/calf_left_link" />-->
  <!--<axis-->
  <!--xyz="0 0 1" />-->
  <!--<limit-->
  <!--lower="-3."-->
  <!--upper="3."-->
  <!--effort="0"-->
  <!--velocity="0" />-->
  <!--</joint>-->
  <!--<link-->
  <!--name="autobed/foot_left_link">-->
  <!--<visual>-->
  <!--<origin-->
  <!--xyz="0 0 0"-->
  <!--rpy="0 0 0" />-->
  <!--<geometry>-->
  <!--<mesh-->
  <!--filename="package://hrl_base_selection/urdf/bed_and_environment_cali_henry_tray/meshes/foot_left_link.STL" />-->
  <!--</geometry>-->
  <!--<material-->
  <!--name="">-->
  <!--<color-->
  <!--rgba="0.792156862745098 0.819607843137255 0.933333333333333 1" />-->
  <!--</material>-->
  <!--</visual>-->
  <!--<collision>-->
  <!--<origin-->
  <!--xyz="0 0 0"-->
  <!--rpy="0 0 0" />-->
  <!--<geometry>-->
  <!--<mesh-->
  <!--filename="package://hrl_base_selection/urdf/bed_and_environment_cali_henry_tray/meshes/foot_left_link.STL" />-->
  <!--</geometry>-->
  <!--</collision>-->
  <!--</link>-->
  <!--<joint-->
  <!--name="autobed/calf_foot_left_joint"-->
  <!--type="revolute">-->
  <!--<origin-->
  <!--xyz="-0.41279 -0.03188 0"-->
  <!--rpy="0 0 0.09" />-->
  <!--<parent-->
  <!--link="autobed/calf_left_link" />-->
  <!--<child-->
  <!--link="autobed/foot_left_link" />-->
  <!--<axis-->
  <!--xyz="0 0 1" />-->
  <!--<limit-->
  <!--lower="-3."-->
  <!--upper="3."-->
  <!--effort="0"-->
  <!--velocity="0" />-->
  <!--</joint>-->
  <!--<link-->
  <!--name="autobed/quad_right_link">-->
  <!--<visual>-->
  <!--<origin-->
  <!--xyz="0 0 0"-->
  <!--rpy="0 0 0" />-->
  <!--<geometry>-->
  <!--<mesh-->
  <!--filename="package://hrl_base_selection/urdf/bed_and_environment_cali_henry_tray/meshes/quad_right_link.STL" />-->
  <!--</geometry>-->
  <!--<material-->
  <!--name="">-->
  <!--<color-->
  <!--rgba="0.792156862745098 0.819607843137255 0.933333333333333 1" />-->
  <!--</material>-->
  <!--</visual>-->
  <!--<collision>-->
  <!--<origin-->
  <!--xyz="0 0 0"-->
  <!--rpy="0 0 0" />-->
  <!--<geometry>-->
  <!--<mesh-->
  <!--filename="package://hrl_base_selection/urdf/bed_and_environment_cali_henry_tray/meshes/quad_right_link.STL" />-->
  <!--</geometry>-->
  <!--</collision>-->
  <!--</link>-->
  <!--<joint-->
  <!--name="autobed/body_quad_right_joint"-->
  <!--type="revolute">-->
  <!--<origin-->
  <!--xyz="0.05207 0 0.08636"-->
  <!--rpy="0 0 -.25" />-->
  <!--<parent-->
  <!--link="autobed/lower_body_link" />-->
  <!--<child-->
  <!--link="autobed/quad_right_link" />-->
  <!--<axis-->
  <!--xyz="0 0 1" />-->
  <!--<limit-->
  <!--lower="-3"-->
  <!--upper="3"-->
  <!--effort="0"-->
  <!--velocity="0" />-->
  <!--</joint>-->
  <!--<link-->
  <!--name="autobed/calf_right_link">-->
  <!--<visual>-->
  <!--<origin-->
  <!--xyz="0 0 0"-->
  <!--rpy="0 0 0" />-->
  <!--<geometry>-->
  <!--<mesh-->
  <!--filename="package://hrl_base_selection/urdf/bed_and_environment_cali_henry_tray/meshes/calf_right_link.STL" />-->
  <!--</geometry>-->
  <!--<material-->
  <!--name="">-->
  <!--<color-->
  <!--rgba="0.792156862745098 0.819607843137255 0.933333333333333 1" />-->
  <!--</material>-->
  <!--</visual>-->
  <!--<collision>-->
  <!--<origin-->
  <!--xyz="0 0 0"-->
  <!--rpy="0 0 0" />-->
  <!--<geometry>-->
  <!--<mesh-->
  <!--filename="package://hrl_base_selection/urdf/bed_and_environment_cali_henry_tray/meshes/calf_right_link.STL" />-->
  <!--</geometry>-->
  <!--</collision>-->
  <!--</link>-->
  <!--<joint-->
  <!--name="autobed/quad_calf_right_joint"-->
  <!--type="revolute">-->
  <!--<origin-->
  <!--xyz="0.41218 0.11044 0"-->
  <!--rpy="3.14159 0 3.43" />-->
  <!--<parent-->
  <!--link="autobed/quad_right_link" />-->
  <!--<child-->
  <!--link="autobed/calf_right_link" />-->
  <!--<axis-->
  <!--xyz="0 0 1" />-->
  <!--<limit-->
  <!--lower="-3"-->
  <!--upper="3"-->
  <!--effort="0"-->
  <!--velocity="0" />-->
  <!--</joint>-->
  <!--<link-->
  <!--name="autobed/foot_right_link">-->
  <!--<visual>-->
  <!--<origin-->
  <!--xyz="0 0 0"-->
  <!--rpy="0 0 0" />-->
  <!--<geometry>-->
  <!--<mesh-->
  <!--filename="package://hrl_base_selection/urdf/bed_and_environment_cali_henry_tray/meshes/foot_right_link.STL" />-->
  <!--</geometry>-->
  <!--<material-->
  <!--name="">-->
  <!--<color-->
  <!--rgba="0.792156862745098 0.819607843137255 0.933333333333333 1" />-->
  <!--</material>-->
  <!--</visual>-->
  <!--<collision>-->
  <!--<origin-->
  <!--xyz="0 0 0"-->
  <!--rpy="0 0 0" />-->
  <!--<geometry>-->
  <!--<mesh-->
  <!--filename="package://hrl_base_selection/urdf/bed_and_environment_cali_henry_tray/meshes/foot_right_link.STL" />-->
  <!--</geometry>-->
  <!--</collision>-->
  <!--</link>-->
  <!--<joint-->
  <!--name="autobed/calf_foot_right_joint"-->
  <!--type="revolute">-->
  <!--<origin-->
  <!--xyz="-0.41279 -0.03188 0"-->
  <!--rpy="0 0 0.09" />-->
  <!--<parent-->
  <!--link="autobed/calf_right_link" />-->
  <!--<child-->
  <!--link="autobed/foot_right_link" />-->
  <!--<axis-->
  <!--xyz="0 0 1" />-->
  <!--<limit-->
  <!--lower="-3"-->
  <!--upper="3"-->
  <!--effort="0"-->
  <!--velocity="0" />-->
  <!--</joint>-->
  <!--<link-->
  <!--name="autobed/arm_left_link">-->
  <!--<visual>-->
  <!--<origin-->
  <!--xyz="0 0 0"-->
  <!--rpy="0 0 0" />-->
  <!--<geometry>-->
  <!--<mesh-->
  <!--filename="package://hrl_base_selection/urdf/bed_and_environment_cali_henry_tray/meshes/arm_left_link.STL" />-->
  <!--</geometry>-->
  <!--<material-->
  <!--name="">-->
  <!--<color-->
  <!--rgba="0.792156862745098 0.819607843137255 0.933333333333333 1" />-->
  <!--</material>-->
  <!--</visual>-->
  <!--<collision>-->
  <!--<origin-->
  <!--xyz="0 0 0"-->
  <!--rpy="0 0 0" />-->
  <!--<geometry>-->
  <!--<mesh-->
  <!--filename="package://hrl_base_selection/urdf/bed_and_environment_cali_henry_tray/meshes/arm_left_link.STL" />-->
  <!--</geometry>-->
  <!--</collision>-->
  <!--</link>-->
  <!--<joint-->
  <!--name="autobed/body_arm_left_joint"-->
  <!--type="revolute">-->
  <!--<origin-->
  <!--xyz="0.09652 0 -0.17526"-->
  <!--rpy="0 0 0" />-->
  <!--<parent-->
  <!--link="autobed/upper_body_link" />-->
  <!--<child-->
  <!--link="autobed/arm_left_link" />-->
  <!--<axis-->
  <!--xyz="0 0 1" />-->
  <!--<limit-->
  <!--lower="-3"-->
  <!--upper="3"-->
  <!--effort="0"-->
  <!--velocity="0" />-->
  <!--</joint>-->
  <!--<link-->
  <!--name="autobed/forearm_left_rotx_link">-->
  <!--</link>-->
  <!--<joint-->
  <!--name="autobed/arm_forearm_left_rotx_joint"-->
  <!--type="revolute">-->
  <!--<origin-->
  <!--xyz="0.28174 -0.0106 -0.04953"-->
  <!--rpy="0 0 0" />-->
  <!--<parent-->
  <!--link="autobed/arm_left_link" />-->
  <!--<child-->
  <!--link="autobed/forearm_left_rotx_link" />-->
  <!--<axis-->
  <!--xyz="1 0 0" />-->
  <!--<limit-->
  <!--lower="-3"-->
  <!--upper="3"-->
  <!--effort="0"-->
  <!--velocity="0" />-->
  <!--</joint>-->
  <!--<link-->
  <!--name="autobed/forearm_left_link">-->
  <!--<visual>-->
  <!--<origin-->
  <!--xyz="0 0 0"-->
  <!--rpy="0 0 0" />-->
  <!--<geometry>-->
  <!--<mesh-->
  <!--filename="package://hrl_base_selection/urdf/bed_and_environment_cali_henry_tray/meshes/forearm_left_link.STL" />-->
  <!--</geometry>-->
  <!--<material-->
  <!--name="">-->
  <!--<color-->
  <!--rgba="0.792156862745098 0.819607843137255 0.933333333333333 1" />-->
  <!--</material>-->
  <!--</visual>-->
  <!--<collision>-->
  <!--<origin-->
  <!--xyz="0 0 0"-->
  <!--rpy="0 0 0" />-->
  <!--<geometry>-->
  <!--<mesh-->
  <!--filename="package://hrl_base_selection/urdf/bed_and_environment_cali_henry_tray/meshes/forearm_left_link.STL" />-->
  <!--</geometry>-->
  <!--</collision>-->
  <!--</link>-->
  <!--<joint-->
  <!--name="autobed/arm_forearm_left_rotz_joint"-->
  <!--type="revolute">-->
  <!--<origin-->
  <!--xyz="0 0 0"-->
  <!--rpy="0 0 0" />-->
  <!--<parent-->
  <!--link="autobed/forearm_left_rotx_link" />-->
  <!--<child-->
  <!--link="autobed/forearm_left_link" />-->
  <!--<axis-->
  <!--xyz="0 0 1" />-->
  <!--<limit-->
  <!--lower="-3"-->
  <!--upper="3"-->
  <!--effort="0"-->
  <!--velocity="0" />-->
  <!--</joint>-->
  <!--<link-->
  <!--name="autobed/hand_left_link">-->
  <!--<visual>-->
  <!--<origin-->
  <!--xyz="0 0 0"-->
  <!--rpy="0 0 0" />-->
  <!--<geometry>-->
  <!--<mesh-->
  <!--filename="package://hrl_base_selection/urdf/bed_and_environment_cali_henry_tray/meshes/hand_left_link.STL" />-->
  <!--</geometry>-->
  <!--<material-->
  <!--name="">-->
  <!--<color-->
  <!--rgba="0.792156862745098 0.819607843137255 0.933333333333333 1" />-->
  <!--</material>-->
  <!--</visual>-->
  <!--<collision>-->
  <!--<origin-->
  <!--xyz="0 0 0"-->
  <!--rpy="0 0 0" />-->
  <!--<geometry>-->
  <!--<mesh-->
  <!--filename="package://hrl_base_selection/urdf/bed_and_environment_cali_henry_tray/meshes/hand_left_link.STL" />-->
  <!--</geometry>-->
  <!--</collision>-->
  <!--</link>-->
  <!--<joint-->
  <!--name="autobed/forearm_hand_left_joint"-->
  <!--type="revolute">-->
  <!--<origin-->
  <!--xyz="0.25146 0 0"-->
  <!--rpy="0 0 0" />-->
  <!--<parent-->
  <!--link="autobed/forearm_left_link" />-->
  <!--<child-->
  <!--link="autobed/hand_left_link" />-->
  <!--<axis-->
  <!--xyz="0 0 1" />-->
  <!--<limit-->
  <!--lower="-3"-->
  <!--upper="3"-->
  <!--effort="0"-->
  <!--velocity="0" />-->
  <!--</joint>-->
  <!--<link-->
  <!--name="autobed/arm_right_link">-->
  <!--<visual>-->
  <!--<origin-->
  <!--xyz="0 0 0"-->
  <!--rpy="0 0 0" />-->
  <!--<geometry>-->
  <!--<mesh-->
  <!--filename="package://hrl_base_selection/urdf/bed_and_environment_cali_henry_tray/meshes/arm_right_link.STL" />-->
  <!--</geometry>-->
  <!--<material-->
  <!--name="">-->
  <!--<color-->
  <!--rgba="0.792156862745098 0.819607843137255 0.933333333333333 1" />-->
  <!--</material>-->
  <!--</visual>-->
  <!--<collision>-->
  <!--<origin-->
  <!--xyz="0 0 0"-->
  <!--rpy="0 0 0" />-->
  <!--<geometry>-->
  <!--<mesh-->
  <!--filename="package://hrl_base_selection/urdf/bed_and_environment_cali_henry_tray/meshes/arm_right_link.STL" />-->
  <!--</geometry>-->
  <!--</collision>-->
  <!--</link>-->
  <!--<joint-->
  <!--name="autobed/body_arm_right_joint"-->
  <!--type="revolute">-->
  <!--<origin-->
  <!--xyz="0.09652 0 0.17526"-->
  <!--rpy="0 0 0" />-->
  <!--<parent-->
  <!--link="autobed/upper_body_link" />-->
  <!--<child-->
  <!--link="autobed/arm_right_link" />-->
  <!--<axis-->
  <!--xyz="0 0 1" />-->
  <!--<limit-->
  <!--lower="-3"-->
  <!--upper="3"-->
  <!--effort="0"-->
  <!--velocity="0" />-->
  <!--</joint>-->
  <!--<link-->
  <!--name="autobed/forearm_right_link">-->
  <!--<visual>-->
  <!--<origin-->
  <!--xyz="0 0 0"-->
  <!--rpy="0 0 0" />-->
  <!--<geometry>-->
  <!--<mesh-->
  <!--filename="package://hrl_base_selection/urdf/bed_and_environment_cali_henry_tray/meshes/forearm_right_link.STL" />-->
  <!--</geometry>-->
  <!--<material-->
  <!--name="">-->
  <!--<color-->
  <!--rgba="0.792156862745098 0.819607843137255 0.933333333333333 1" />-->
  <!--</material>-->
  <!--</visual>-->
  <!--<collision>-->
  <!--<origin-->
  <!--xyz="0 0 0"-->
  <!--rpy="0 0 0" />-->
  <!--<geometry>-->
  <!--<mesh-->
  <!--filename="package://hrl_base_selection/urdf/bed_and_environment_cali_henry_tray/meshes/forearm_right_link.STL" />-->
  <!--</geometry>-->
  <!--</collision>-->
  <!--</link>-->
  <!--<joint-->
  <!--name="autobed/arm_forearm_right_joint"-->
  <!--type="revolute">-->
  <!--<origin-->
  <!--xyz="0.28194 0 0.04953"-->
  <!--rpy="0 0 0" />-->
  <!--<parent-->
  <!--link="autobed/arm_right_link" />-->
  <!--<child-->
  <!--link="autobed/forearm_right_link" />-->
  <!--<axis-->
  <!--xyz="0 0 1" />-->
  <!--<limit-->
  <!--lower="-3"-->
  <!--upper="3"-->
  <!--effort="0"-->
  <!--velocity="0" />-->
  <!--</joint>-->
  <!--<link-->
  <!--name="autobed/hand_right_link">-->
  <!--<visual>-->
  <!--<origin-->
  <!--xyz="0 0 0"-->
  <!--rpy="0 0 0" />-->
  <!--<geometry>-->
  <!--<mesh-->
  <!--filename="package://hrl_base_selection/urdf/bed_and_environment_cali_henry_tray/meshes/hand_right_link.STL" />-->
  <!--</geometry>-->
  <!--<material-->
  <!--name="">-->
  <!--<color-->
  <!--rgba="0.792156862745098 0.819607843137255 0.933333333333333 1" />-->
  <!--</material>-->
  <!--</visual>-->
  <!--<collision>-->
  <!--<origin-->
  <!--xyz="0 0 0"-->
  <!--rpy="0 0 0" />-->
  <!--<geometry>-->
  <!--<mesh-->
  <!--filename="package://hrl_base_selection/urdf/bed_and_environment_cali_henry_tray/meshes/hand_right_link.STL" />-->
  <!--</geometry>-->
  <!--</collision>-->
  <!--</link>-->
  <!--<joint-->
  <!--name="autobed/forearm_hand_right_joint"-->
  <!--type="revolute">-->
  <!--<origin-->
  <!--xyz="0.25146 0 0"-->
  <!--rpy="0 0 0" />-->
  <!--<parent-->
  <!--link="autobed/forearm_right_link" />-->
  <!--<child-->
  <!--link="autobed/hand_right_link" />-->
  <!--<axis-->
  <!--xyz="0 0 1" />-->
  <!--<limit-->
  <!--lower="-3"-->
  <!--upper="3"-->
  <!--effort="0"-->
  <!--velocity="0" />-->
  <!--</joint>-->
</robot>
